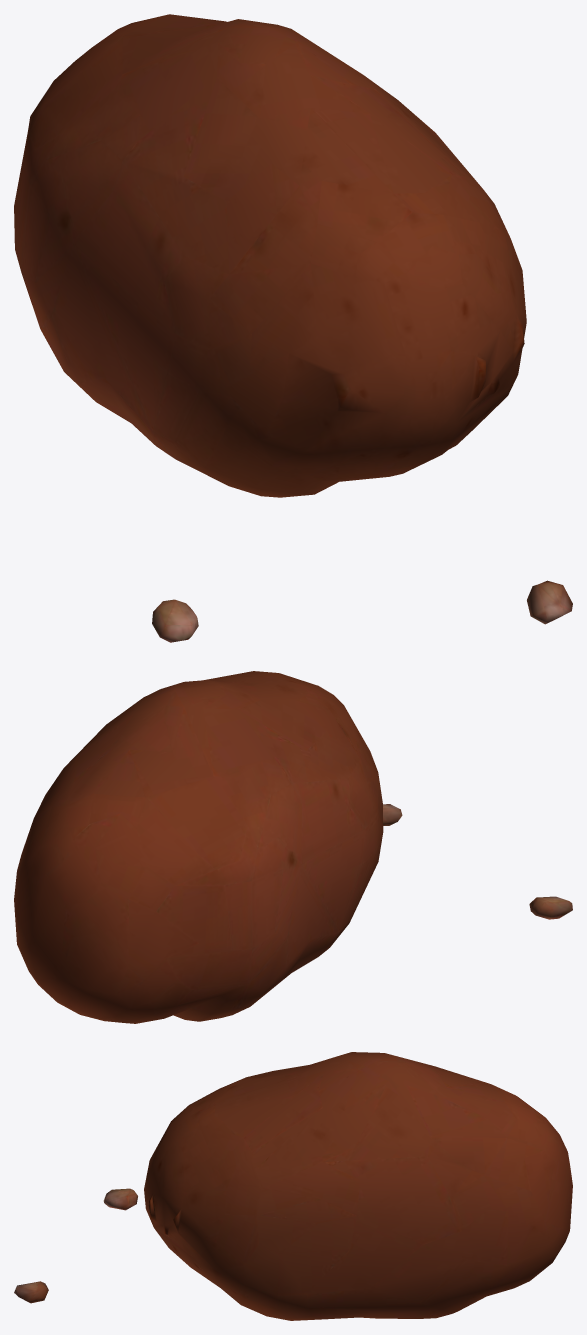
File: potato.glb
3 renders of one model, top to bottom at view 1: azimuth 30°, elevation 25°; view 2: azimuth 150°, elevation 25°; view 3: azimuth 270°, elevation 25°, orthographic. The views are drawn at different scales.
Bounding box in the file's own units: 0.9346 × 0.7354 × 1.54.
1 material, 1 textured.
